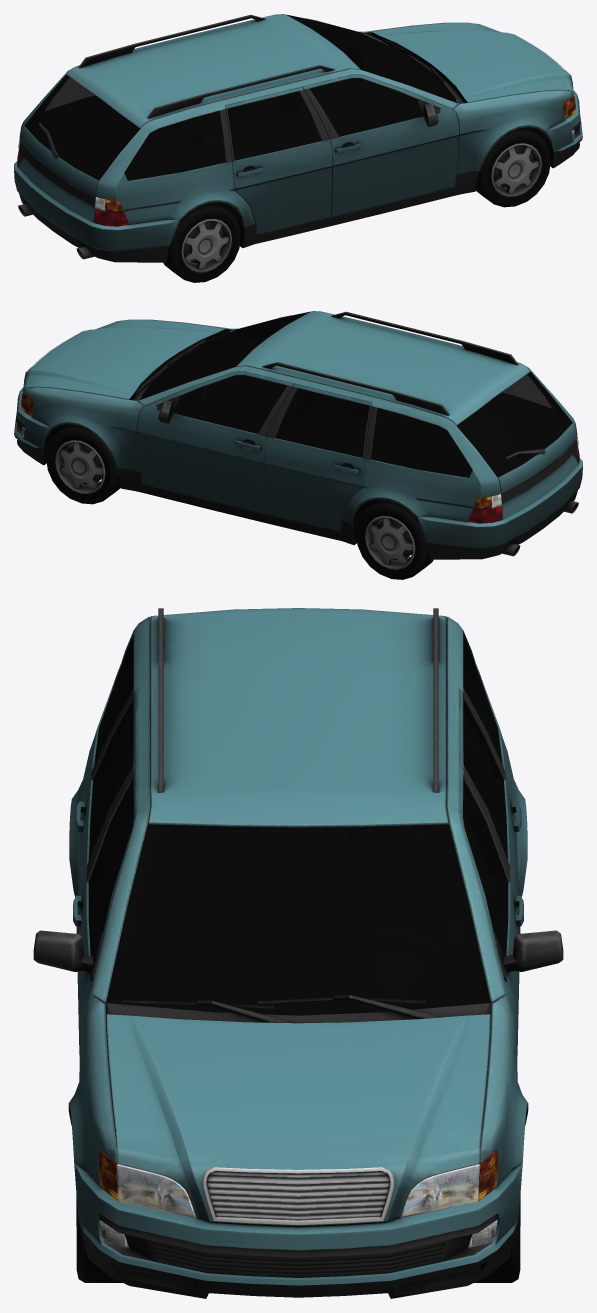
Rendered from wagon.glb.
3 views of the same model, one above another, from view 1: azimuth 30°, elevation 25°; view 2: azimuth 150°, elevation 25°; view 3: azimuth 270°, elevation 25° (orthographic). The views are drawn at different scales.
Visible parts, largest first — view 1: body, wheel (×2); view 2: body, wheel (×2); view 3: body, wheel (×2).
Part boxes in pixels (left/top/right/bottom): body: left=14, top=14, right=582, bottom=262; wheel (×2): left=163, top=127, right=550, bottom=282; body: left=14, top=311, right=582, bottom=559; wheel (×2): left=46, top=424, right=433, bottom=579; body: left=33, top=608, right=563, bottom=1298; wheel (×2): left=76, top=1194, right=520, bottom=1282.
Size of the model in its own units: 4.38 by 1.38 by 1.95.
Materials: 4 (3 with a texture image).
